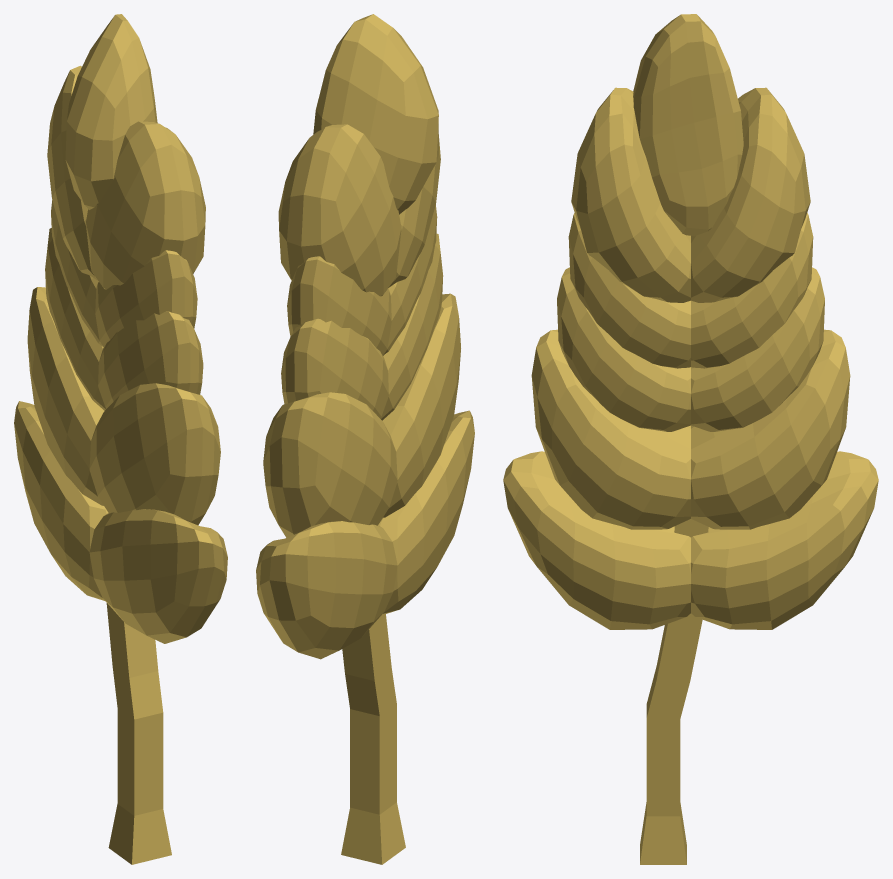
File: trigo.fbx
3 views of the same model, side by side, from view 1: azimuth 30°, elevation 25°; view 2: azimuth 150°, elevation 25°; view 3: azimuth 270°, elevation 25° (orthographic). The views are drawn at different scales.
Parts seen in each view (by area): view 1: Cube.001, Cube; view 2: Cube.001, Cube; view 3: Cube.001, Cube.
Part boxes in pixels (bbox=[...]): Cube.001: bbox=[14, 14, 227, 643]; Cube: bbox=[106, 603, 171, 864]; Cube.001: bbox=[256, 14, 474, 659]; Cube: bbox=[341, 613, 405, 864]; Cube.001: bbox=[503, 14, 878, 629]; Cube: bbox=[640, 519, 708, 864].
Size of the model in its own units: 37.12 by 272 by 111.
